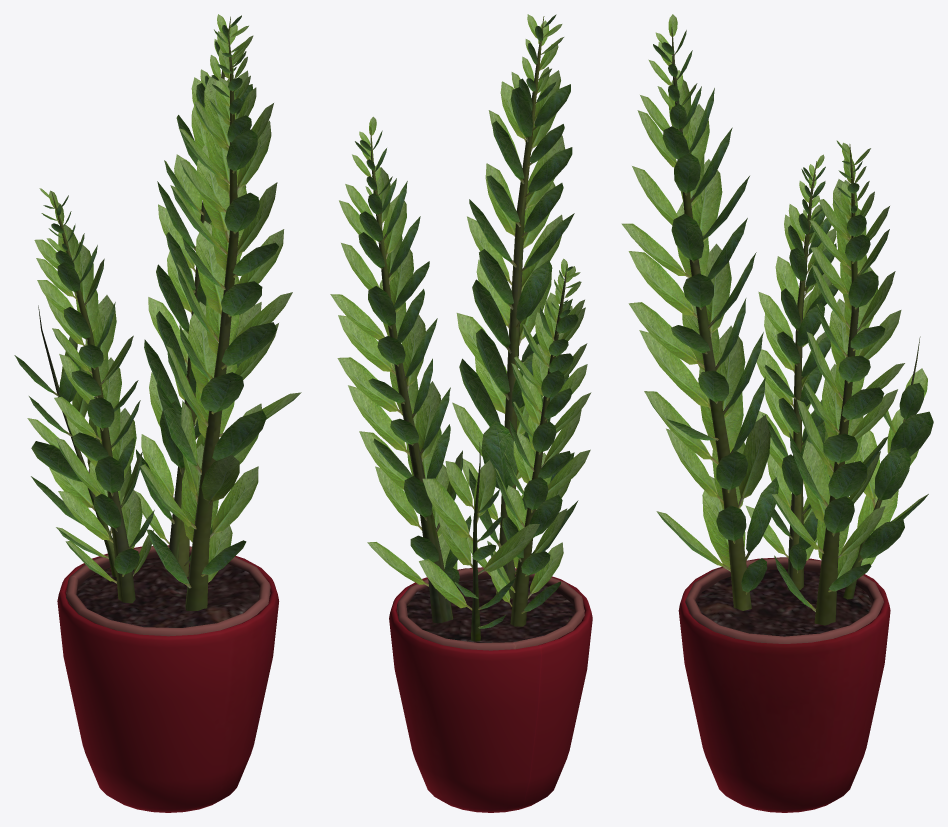
The model's file is blend_indoor_plant_03.fbx.
3 views of the same model, side by side, from view 1: azimuth 30°, elevation 25°; view 2: azimuth 150°, elevation 25°; view 3: azimuth 270°, elevation 25° (orthographic). The views are drawn at different scales.
Parts seen in each view (by area): view 1: Circle; view 2: Circle; view 3: Circle.
Part boxes in pixels (x1,y1,x2,y2): Circle: (14,14,301,812); Circle: (330,14,592,812); Circle: (621,14,933,812).
Size of the model in its own units: 43.73 by 140 by 51.72.
Materials: 1 (1 with a texture image).
